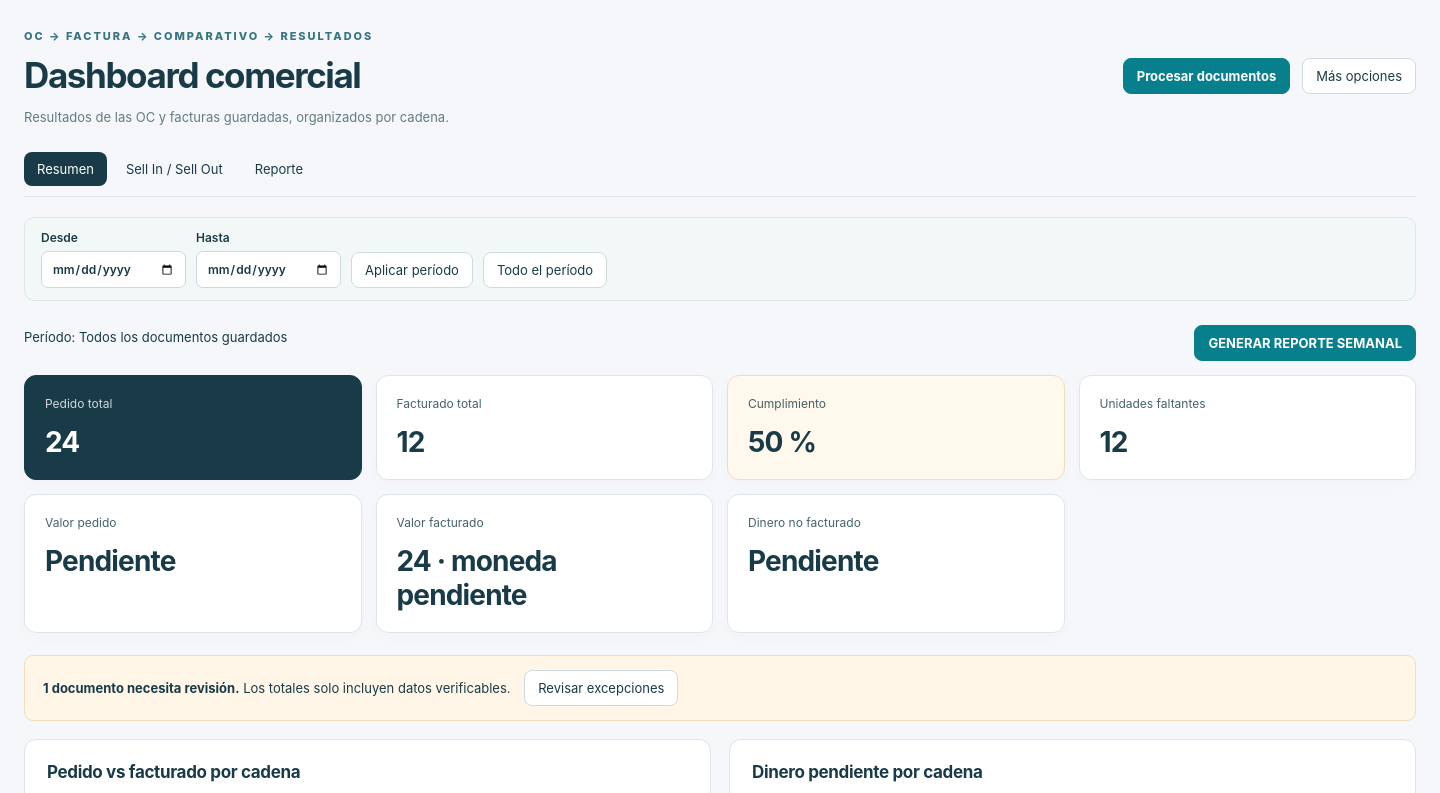
Test: Control comercial › genera el reporte con el período aplicado y exporta ese mismo período sin recargar archivos
Expected: the text "Pedido total" is shown, [45,396,112,411]
Type "2026-10-01" into the date field labelled "Desde" at point(114, 270), box [41,251,186,288]
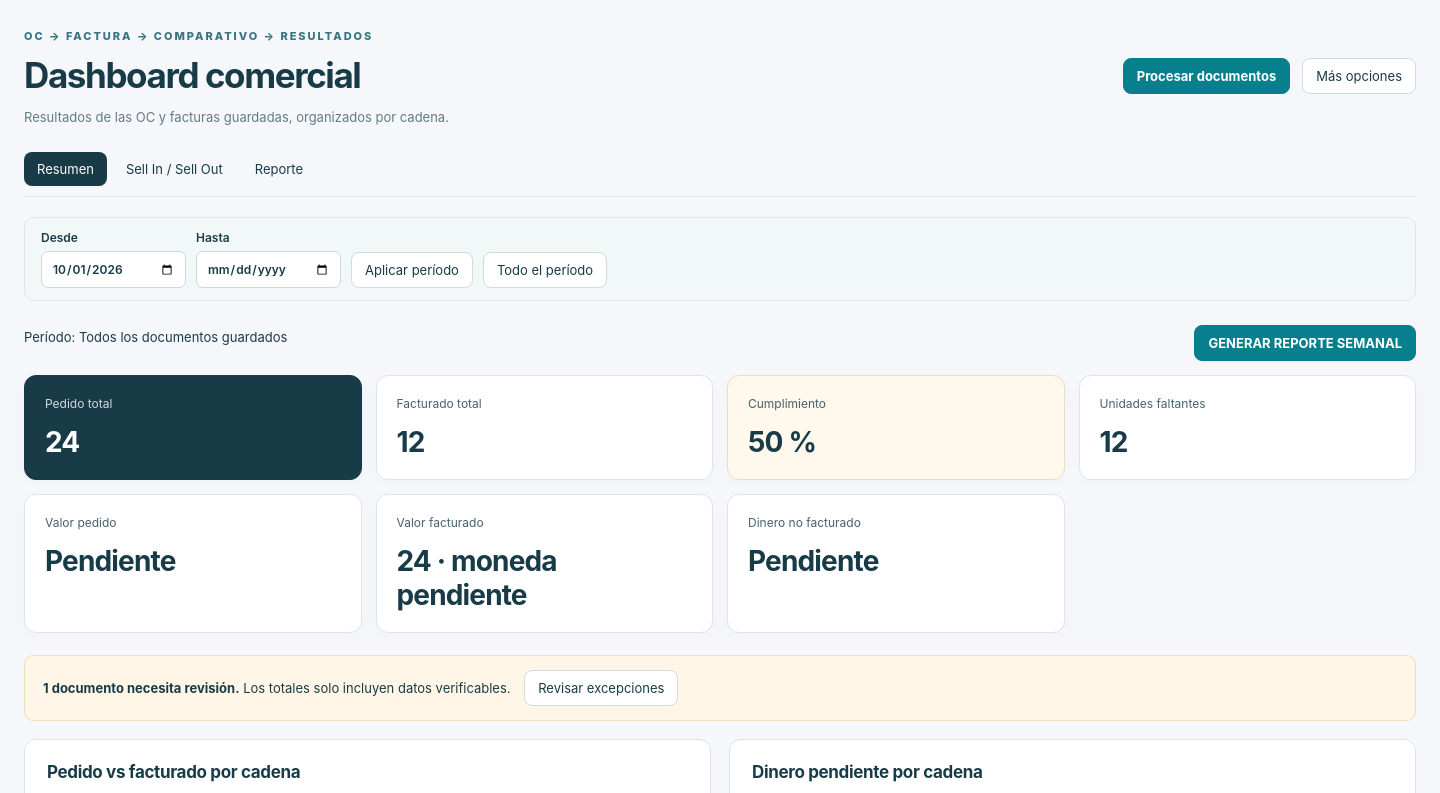
Type "2026-10-07" into the date field labelled "Hasta" at point(268, 270), box [196,251,341,288]
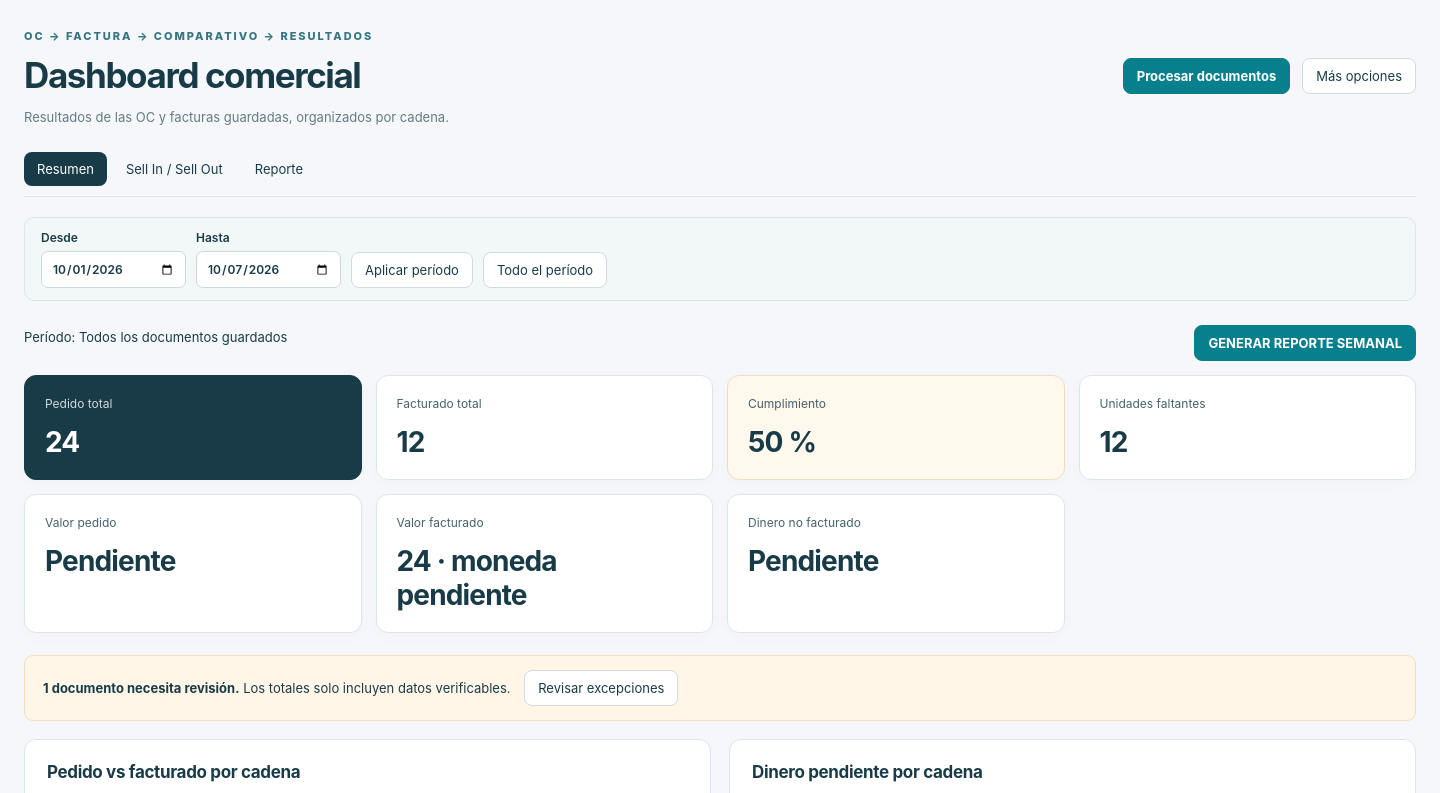
Click the button "Aplicar período" at point(412, 270), box [351,252,473,288]
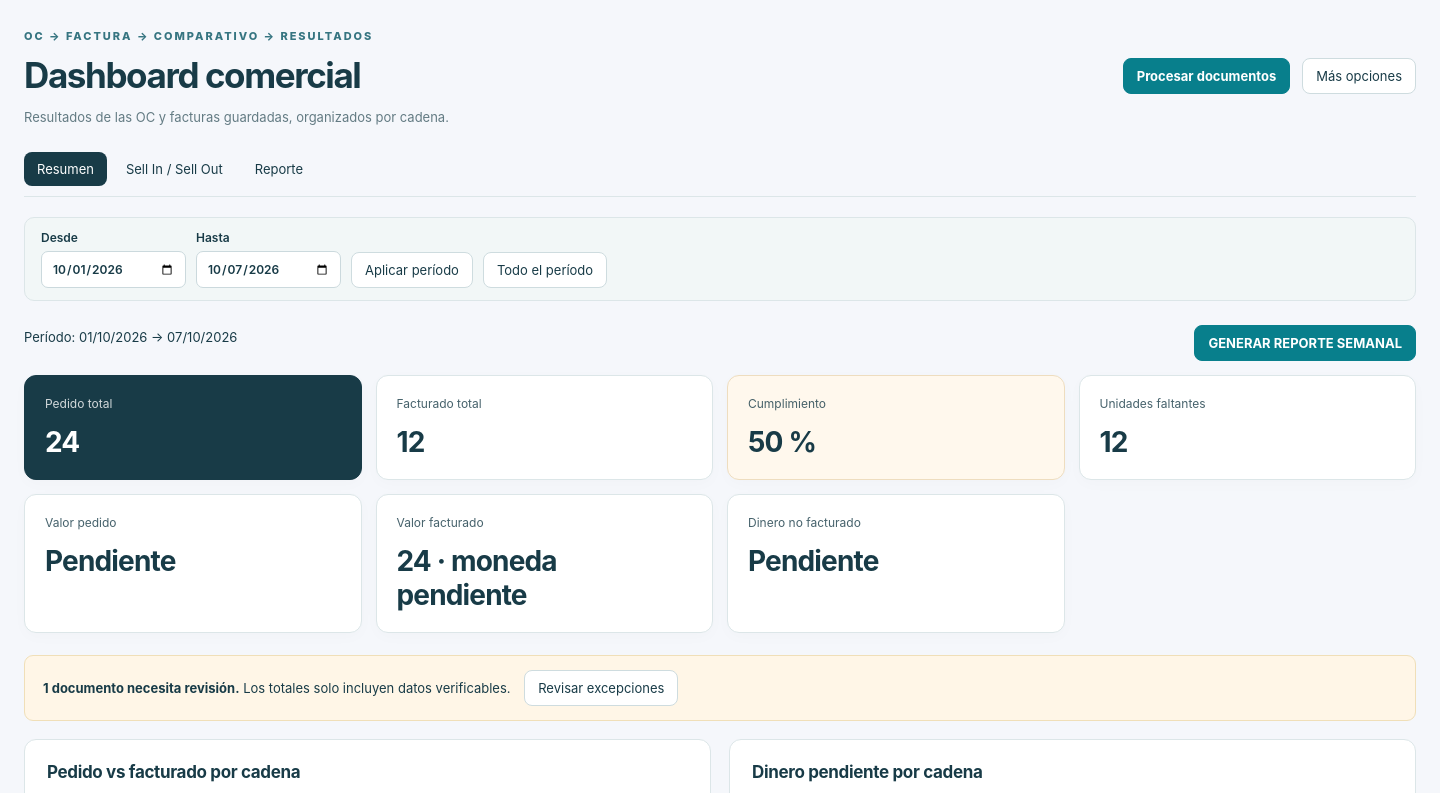
Expected: the text "Pedido total" is shown, [45,396,112,411]
Click the button "GENERAR REPORTE SEMANAL" at point(1305, 343), box [1194,325,1416,361]
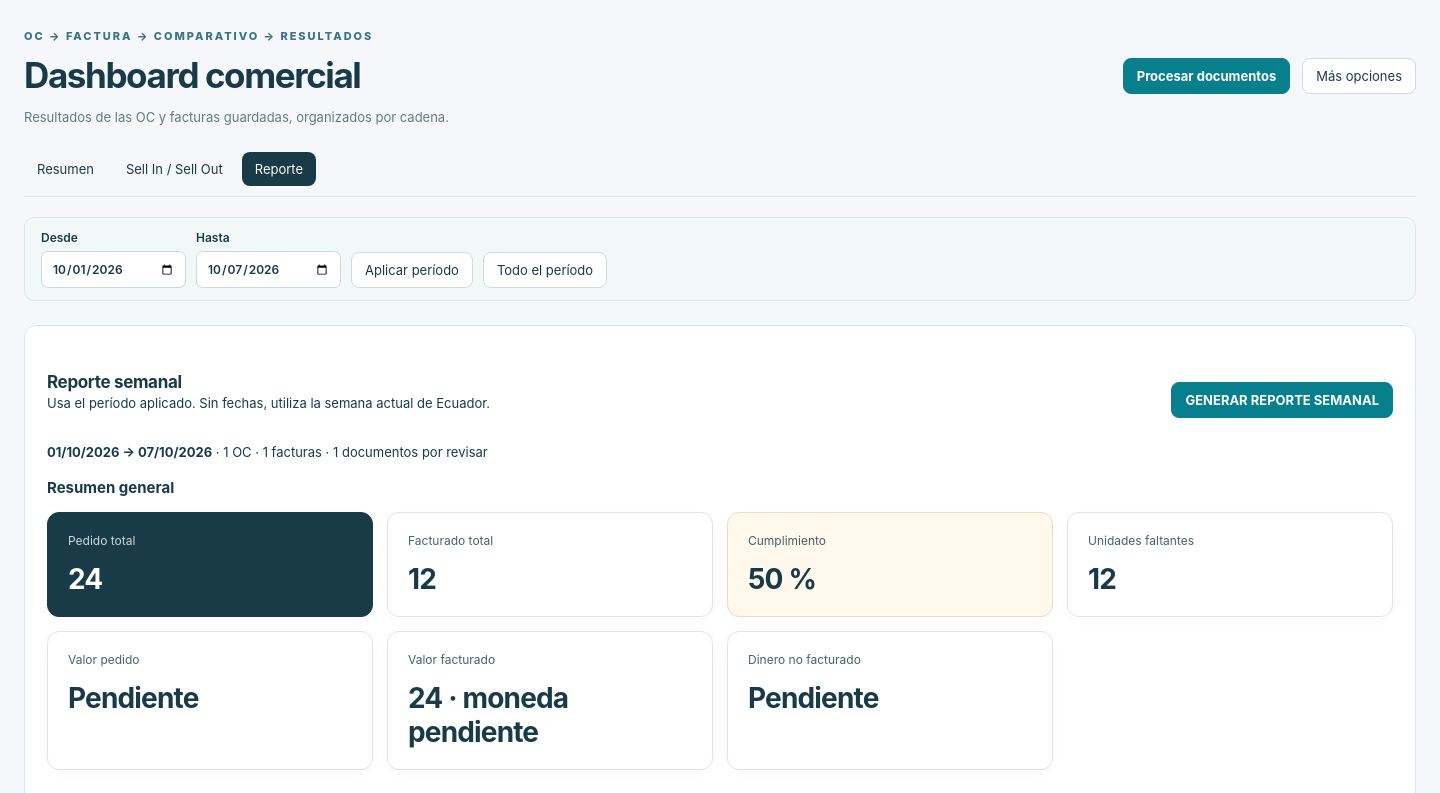
Expected: the text "Pendiente" below "Valor pedido" is shown, [68,681,198,715]
Expected: the heading "Resumen general" is shown, [47,478,174,497]
